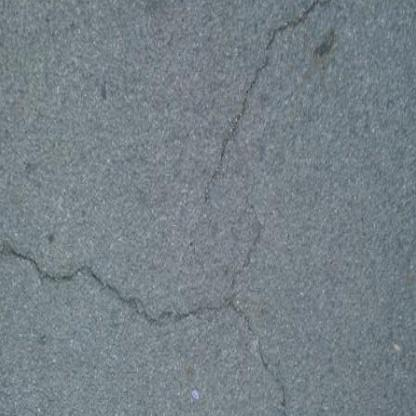Cracks: (0, 211, 271, 341), (180, 19, 312, 254), (227, 285, 311, 416), (223, 0, 416, 41)
